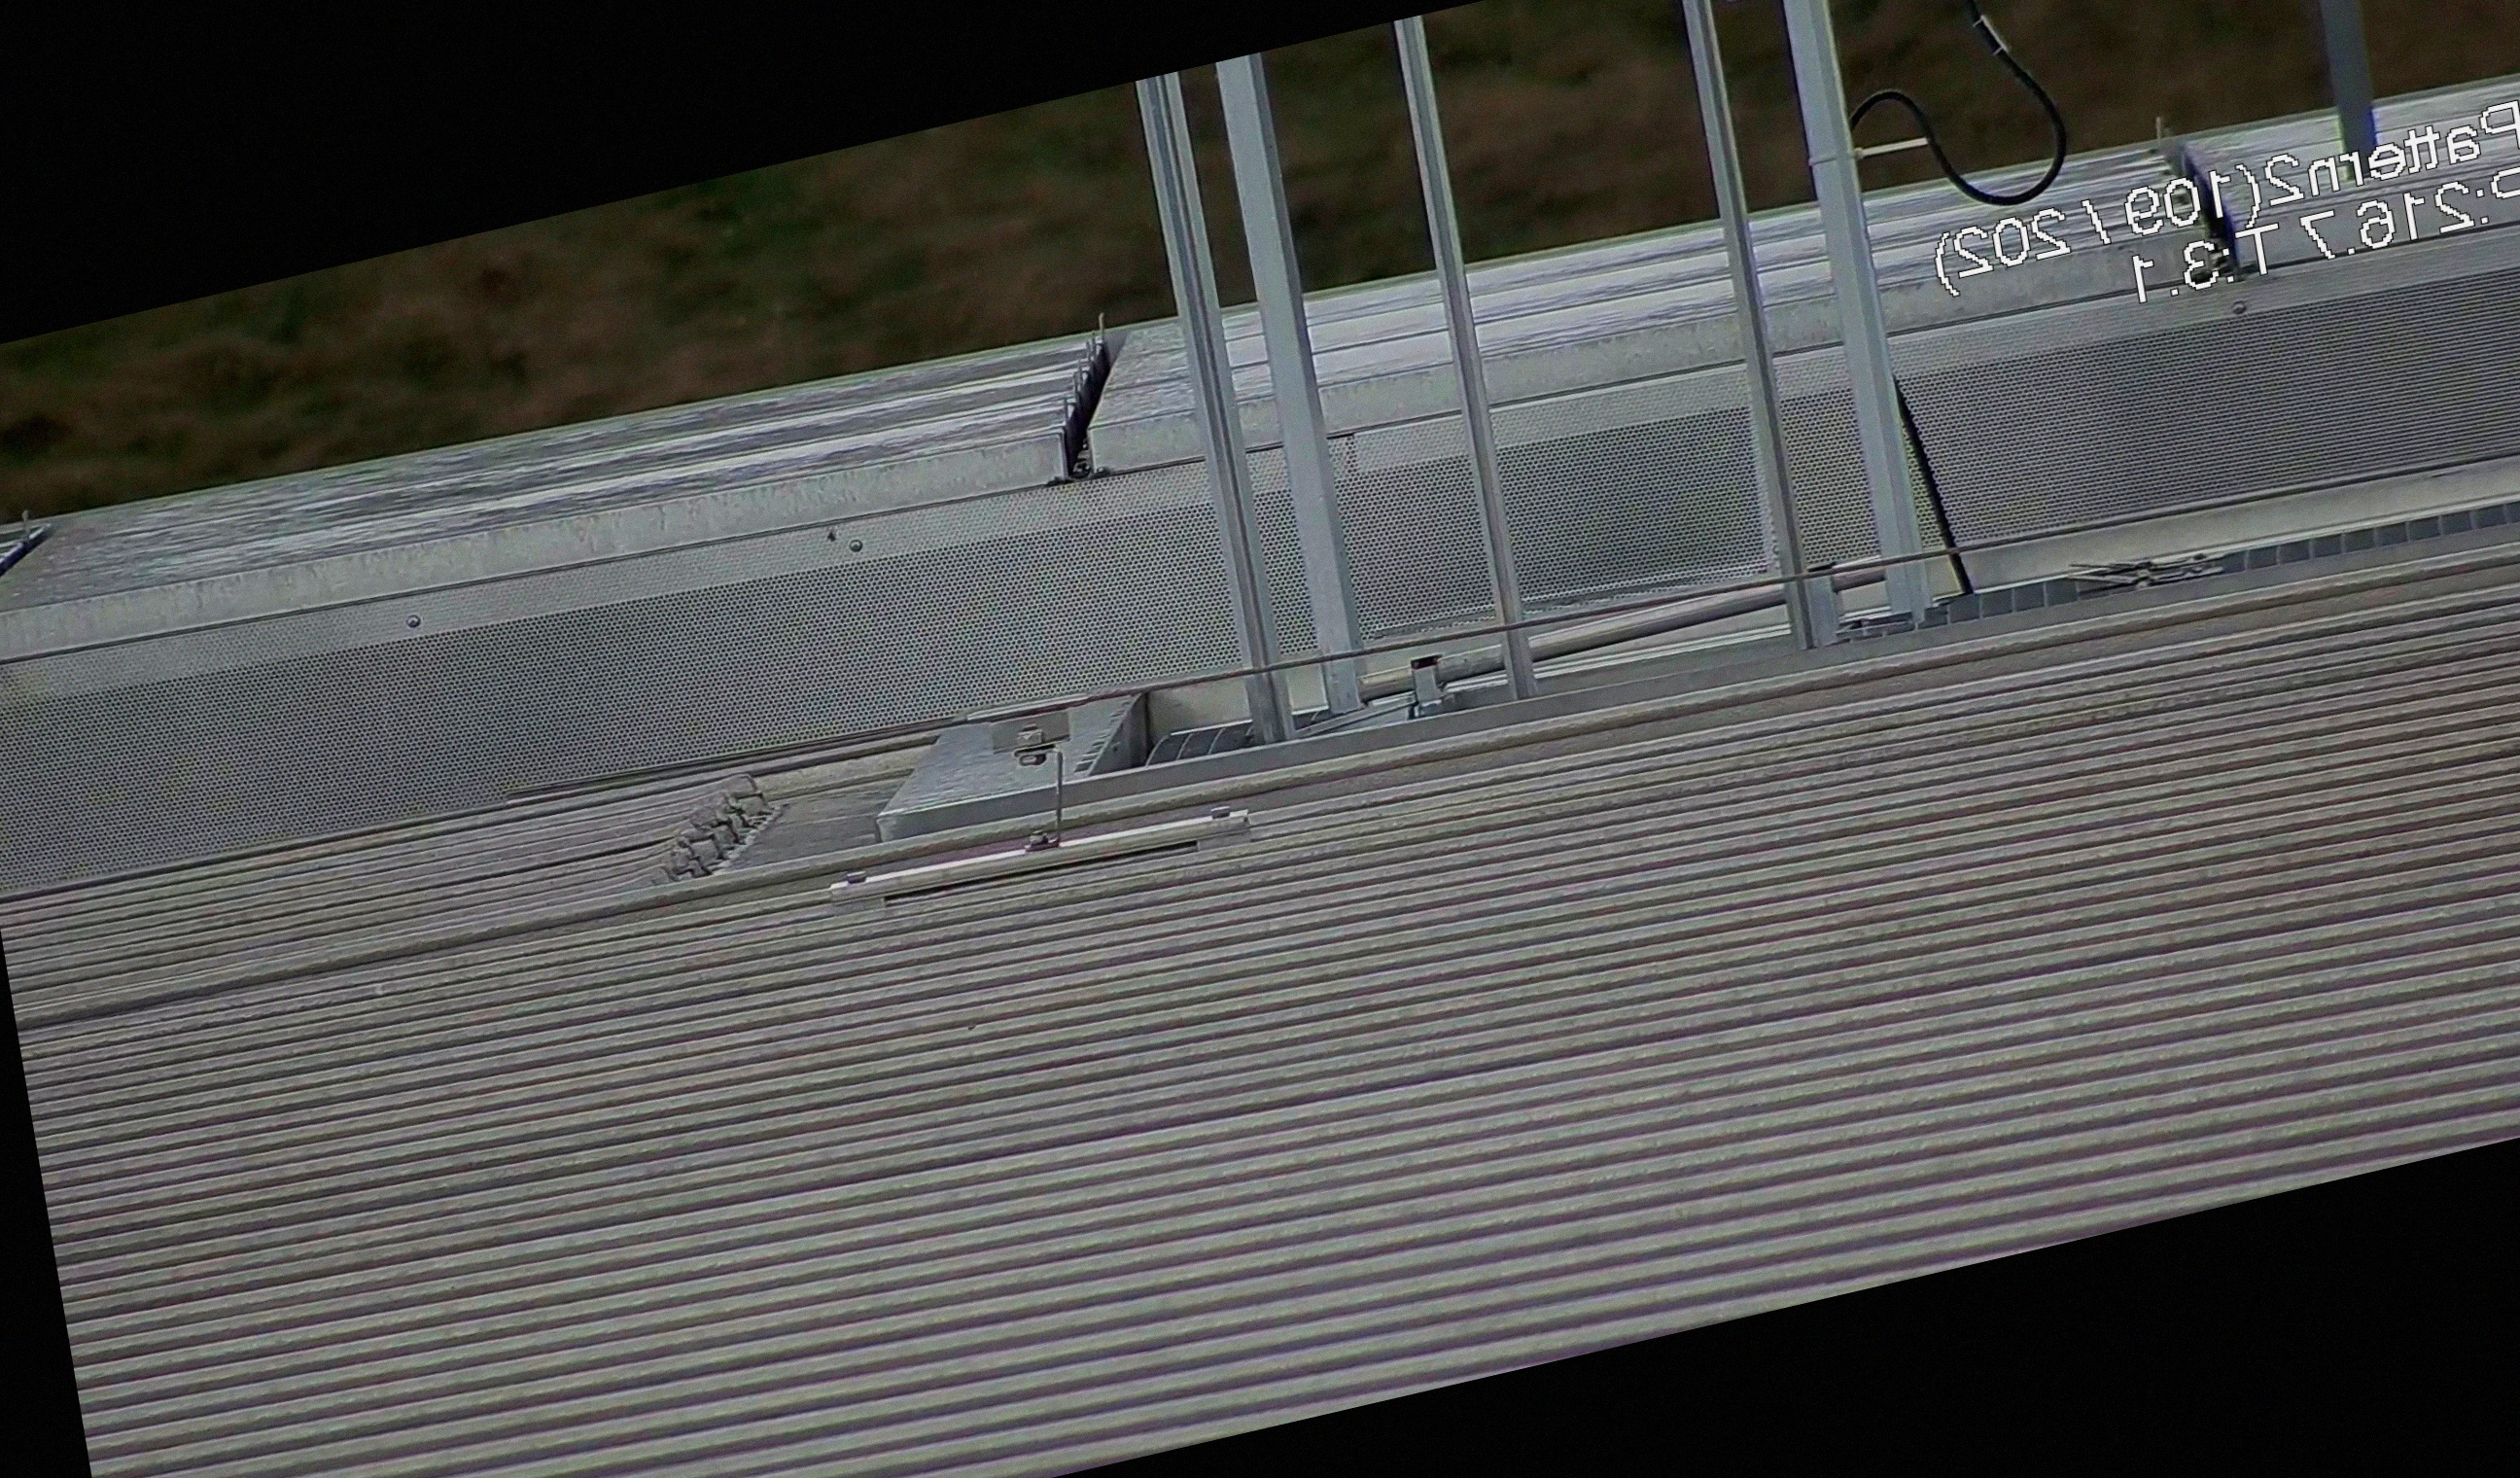Other: (1020, 294, 1162, 494)
